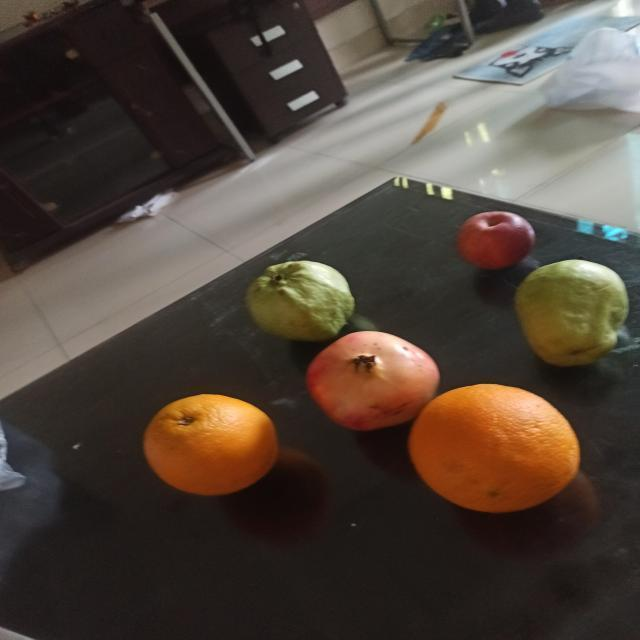apple: (456, 210, 535, 269)
